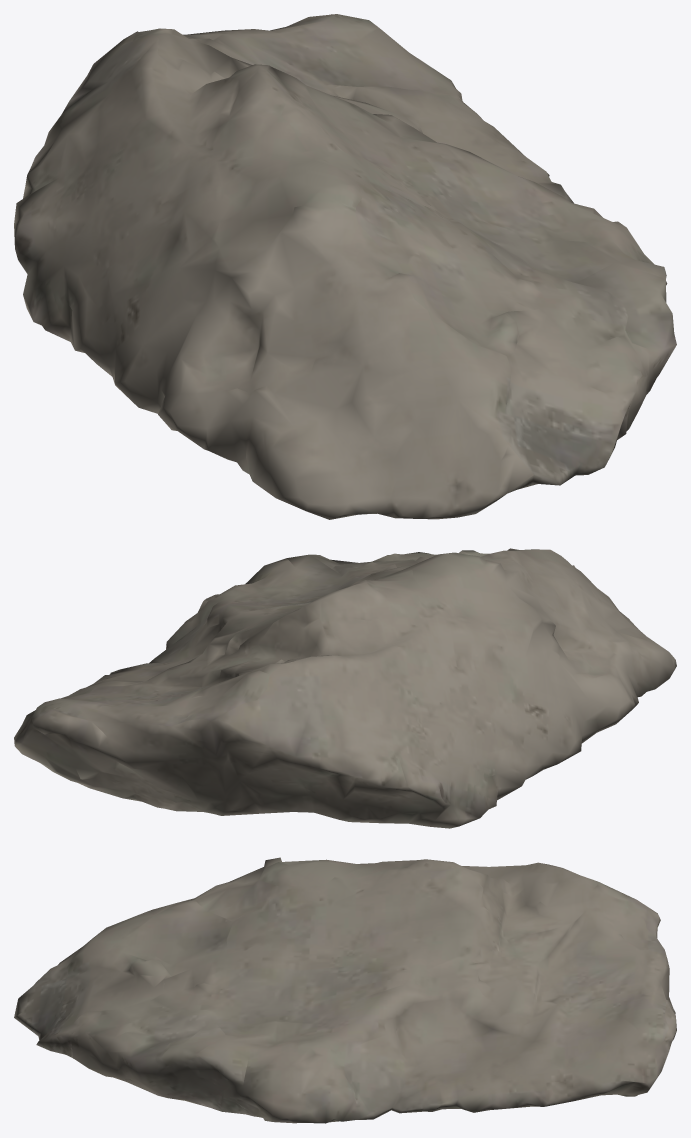
Rendered from moon-rock-04.glb.
The picture shows the model from 3 angles, top to bottom: view 1: azimuth 30°, elevation 25°; view 2: azimuth 150°, elevation 25°; view 3: azimuth 270°, elevation 25°; orthographic projection. The views are drawn at different scales.
Visible parts, largest first — view 1: moon_rock_04_LOD0; view 2: moon_rock_04_LOD0; view 3: moon_rock_04_LOD0.
Boxes of the visible parts, bbox=[...] form: moon_rock_04_LOD0: bbox=[14, 14, 676, 519]; moon_rock_04_LOD0: bbox=[14, 548, 676, 828]; moon_rock_04_LOD0: bbox=[14, 857, 676, 1123].
Size of the model in its own units: 1.1 by 0.4942 by 1.6.
Materials: 1 (1 with a texture image).
